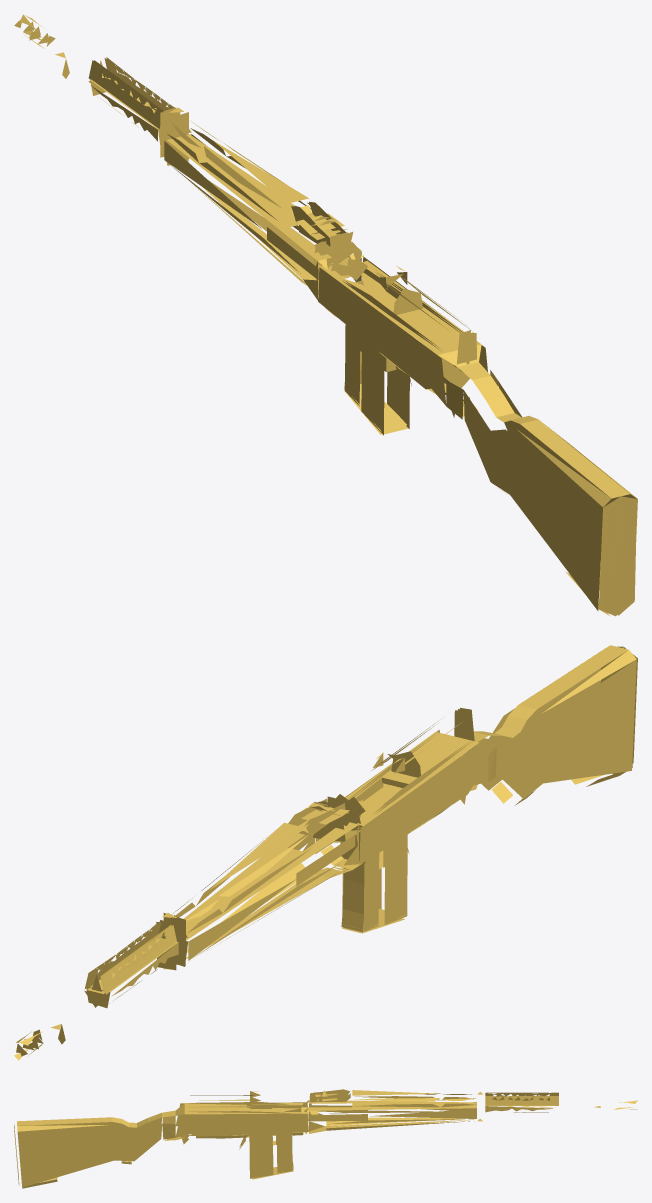
Rendered from charm_mst_fusil_12.glb.
The picture shows the model from 3 angles, top to bottom: view 1: azimuth 30°, elevation 25°; view 2: azimuth 150°, elevation 25°; view 3: azimuth 270°, elevation 25°; orthographic projection. The views are drawn at different scales.
Visible parts, largest first — view 1: p0_paint; view 2: p0_paint; view 3: p0_paint.
Boxes of the visible parts, x1=… form: p0_paint: x1=14, y1=14, x2=637, y2=616; p0_paint: x1=14, y1=645, x2=637, y2=1060; p0_paint: x1=14, y1=1089, x2=637, y2=1188.
Size of the model in its own units: 0.0518 by 0.2072 by 1.22.
